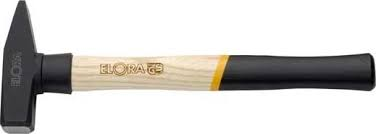hammer: (1, 1, 376, 134)
